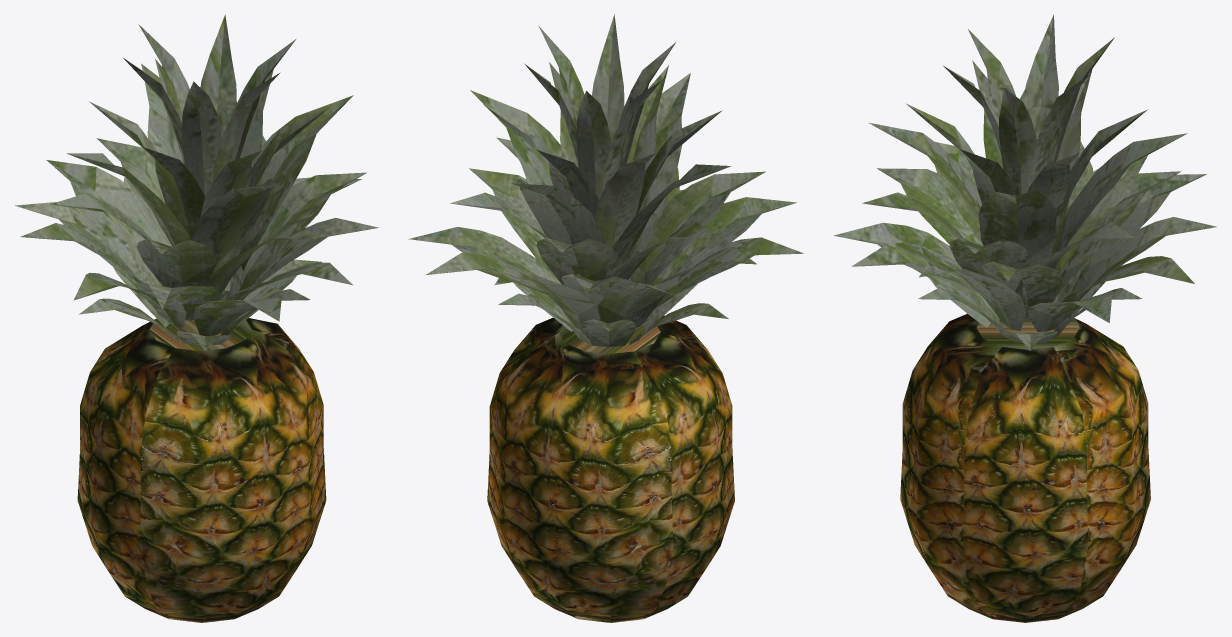
File: pineapple.dae
3 renders of one model, left to right at view 1: azimuth 30°, elevation 25°; view 2: azimuth 150°, elevation 25°; view 3: azimuth 270°, elevation 25°, orthographic.
Parts seen in each view (by area): view 1: group_0, group_1 (×32); view 2: group_0, group_1 (×32); view 3: group_0, group_1 (×31).
Boxes of the visible parts, x1,y1,x2,y2 form: group_0: (77, 318, 326, 622); group_1 (×32): (15, 14, 379, 351); group_0: (487, 315, 734, 622); group_1 (×32): (408, 14, 803, 346); group_0: (900, 313, 1150, 622); group_1 (×31): (834, 14, 1216, 350).
Bounding box in the file's own units: 8.87 × 8.97 × 14.12.
Materials: 2 (2 with a texture image).
